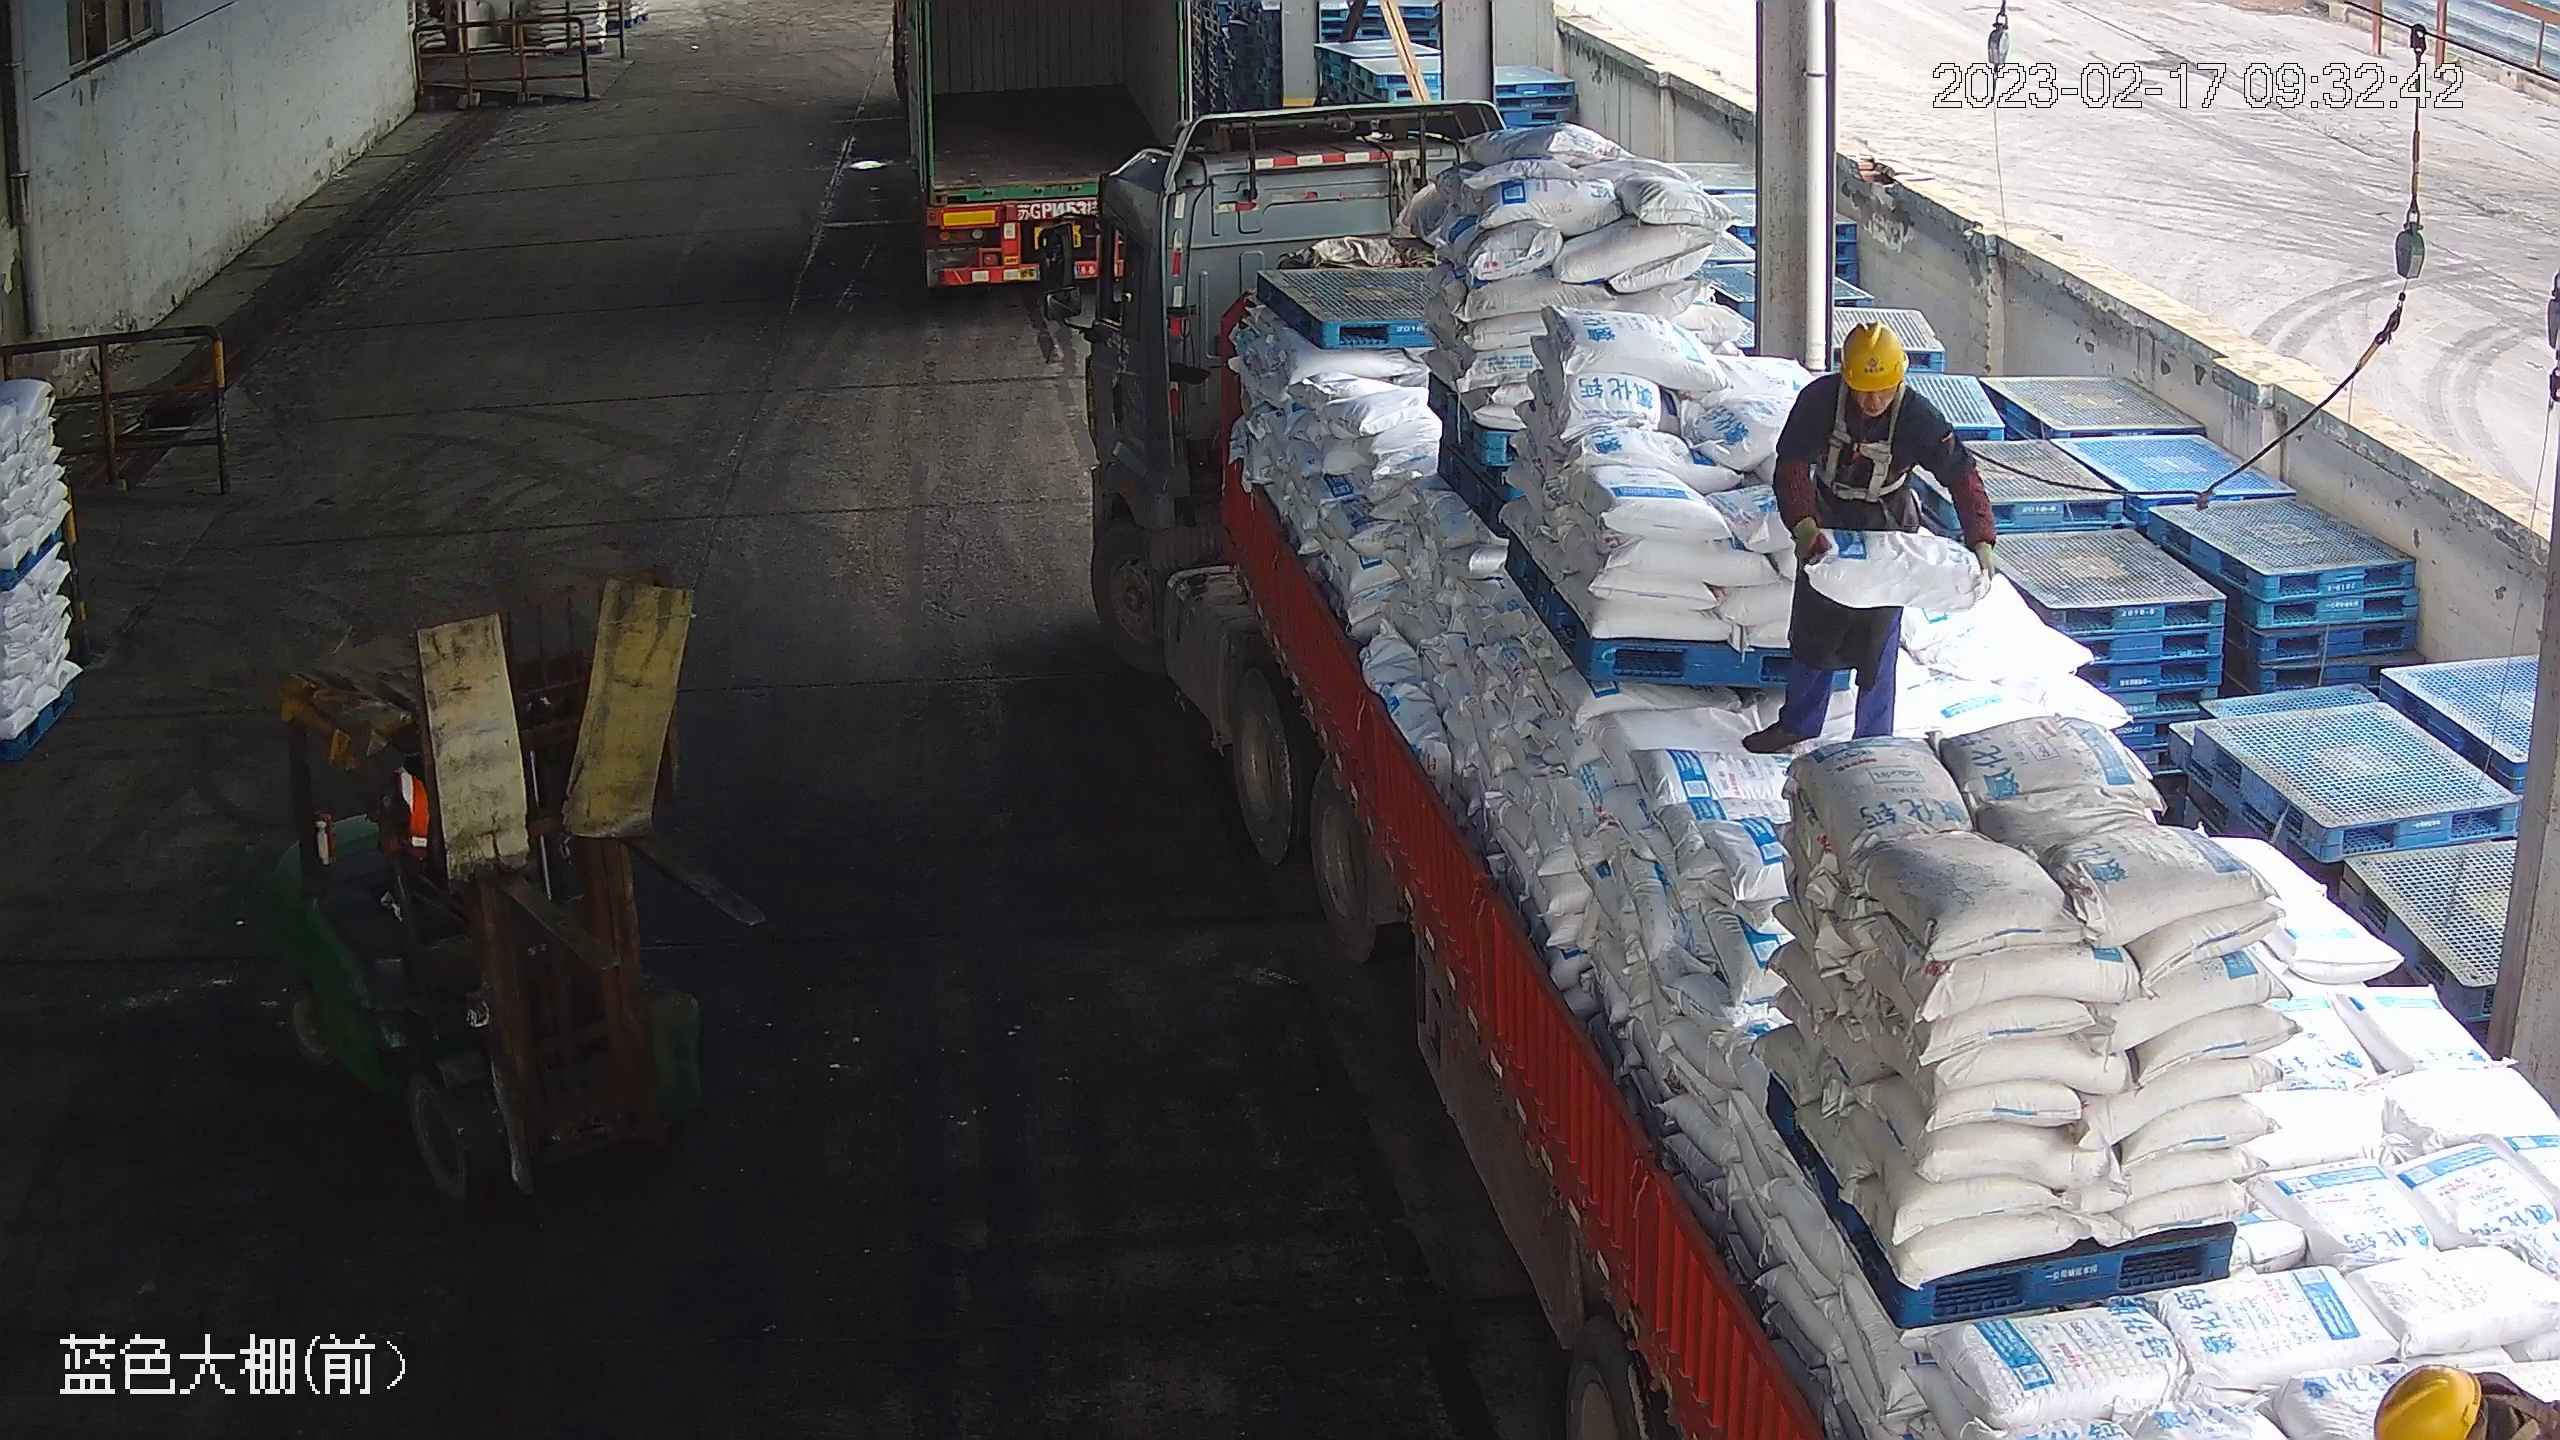belt: (1825, 392, 1914, 499)
head: (1785, 319, 1939, 446)
helmet: (2369, 1361, 2483, 1439), (1838, 318, 1912, 397)
people: (1740, 319, 1997, 758)
truck: (1031, 100, 2560, 1440), (883, 1, 1193, 295)
